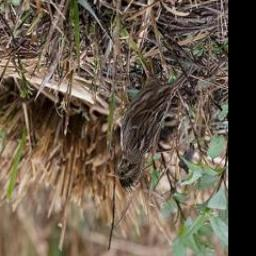Sparrow: (110, 46, 199, 194)
